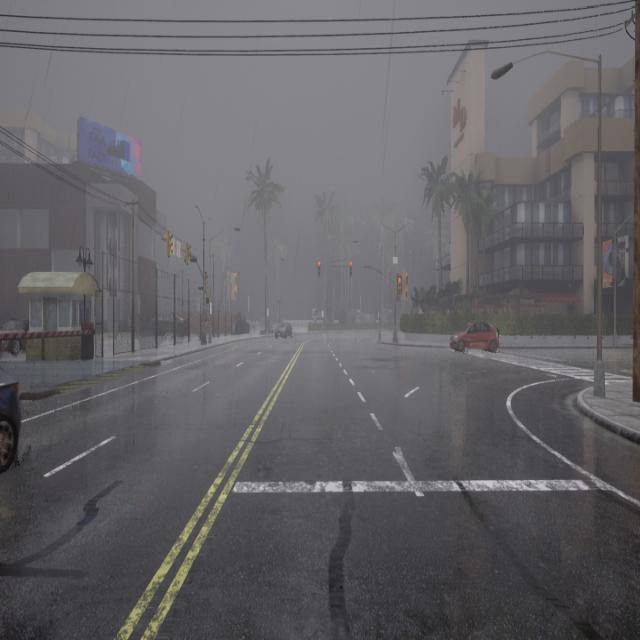6: (317, 260, 321, 267), (348, 260, 352, 266), (398, 278, 401, 282)
9: (167, 230, 173, 258), (186, 243, 191, 266), (348, 259, 353, 278), (317, 260, 321, 278), (398, 277, 402, 294), (205, 272, 208, 293)
bien_hieu_lenh: (205, 286, 208, 292), (170, 251, 172, 256), (188, 260, 190, 264)
